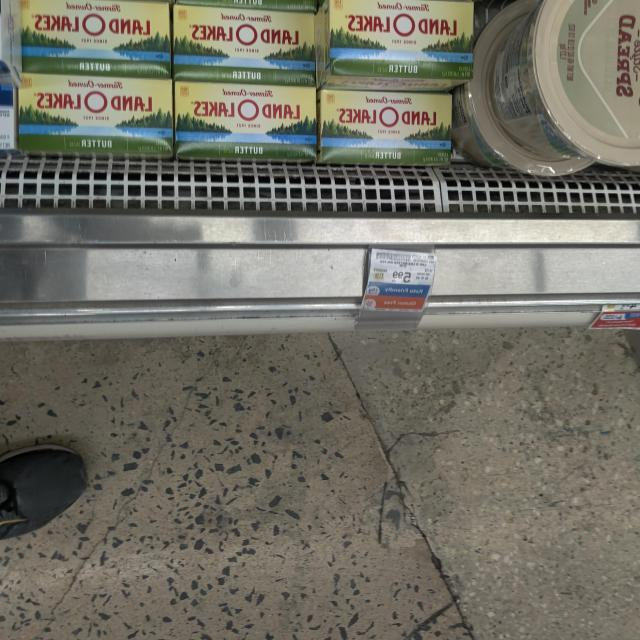Butter: (316, 0, 474, 87), (5, 78, 171, 157), (13, 0, 170, 79), (172, 3, 316, 81), (174, 87, 316, 158), (319, 93, 454, 161)
